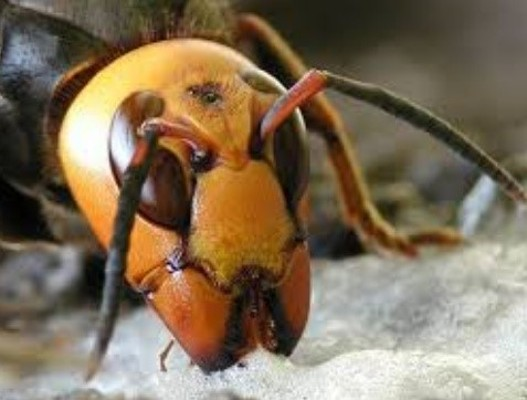asian_giant_hornet: (1, 1, 328, 377)
